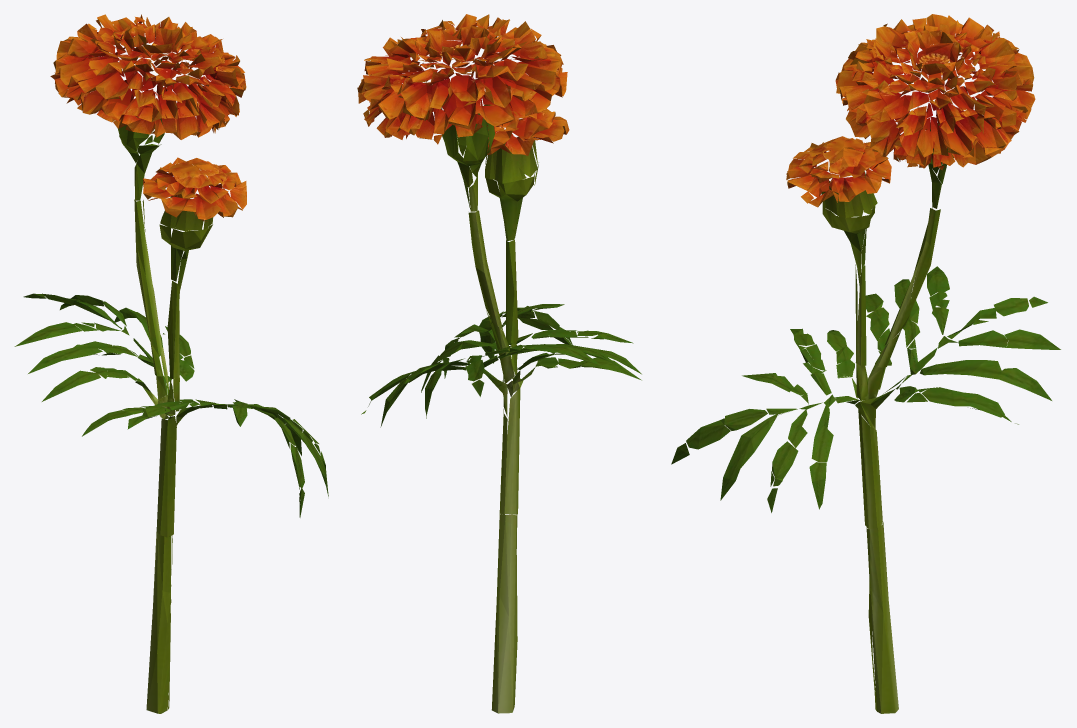
The model's file is flor_13_cempasuchil.glb.
The picture shows the model from 3 angles, left to right: view 1: azimuth 30°, elevation 25°; view 2: azimuth 150°, elevation 25°; view 3: azimuth 270°, elevation 25°; orthographic projection. The views are drawn at different scales.
Parts seen in each view (by area): view 1: tripo_node_3b78222c-4983-430a-a88e-4df14b44b4a0; view 2: tripo_node_3b78222c-4983-430a-a88e-4df14b44b4a0; view 3: tripo_node_3b78222c-4983-430a-a88e-4df14b44b4a0.
Boxes of the visible parts, <box> form: tripo_node_3b78222c-4983-430a-a88e-4df14b44b4a0: <box>14,14,328,713</box>; tripo_node_3b78222c-4983-430a-a88e-4df14b44b4a0: <box>357,14,641,713</box>; tripo_node_3b78222c-4983-430a-a88e-4df14b44b4a0: <box>671,14,1060,713</box>.
Bounding box in the file's own units: 0.3742 × 1 × 0.5222.
1 material, 1 textured.
